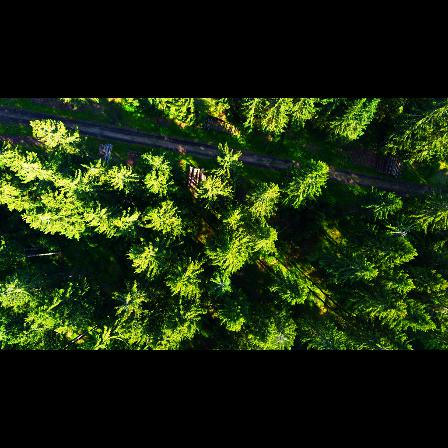Sick: (384, 218, 416, 244), (206, 272, 236, 298)
